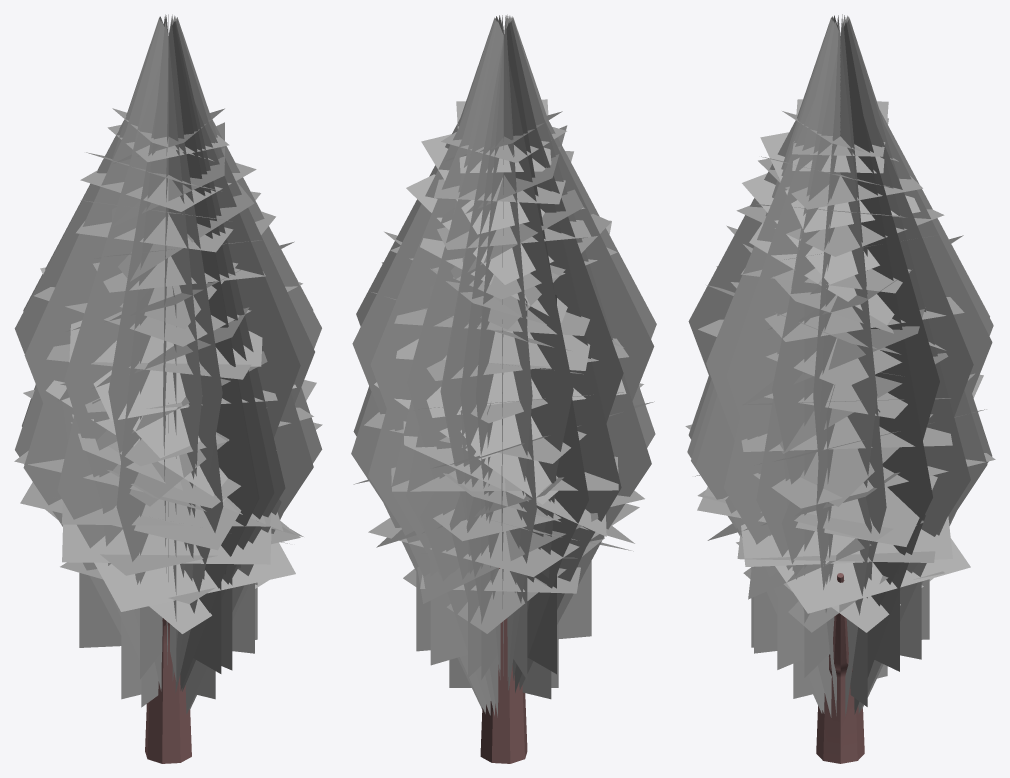
The model's file is sm_arbre2.fbx.
3 views of the same model, side by side, from view 1: azimuth 30°, elevation 25°; view 2: azimuth 150°, elevation 25°; view 3: azimuth 270°, elevation 25° (orthographic).
Visible parts, largest first — view 1: arbre2; view 2: arbre2; view 3: arbre2.
Boxes of the visible parts, x1,y1,x2,y2 form: arbre2: [14, 14, 322, 763]; arbre2: [351, 14, 656, 763]; arbre2: [685, 14, 995, 763].
Size of the model in its own units: 23.46 by 61.27 by 23.46.
